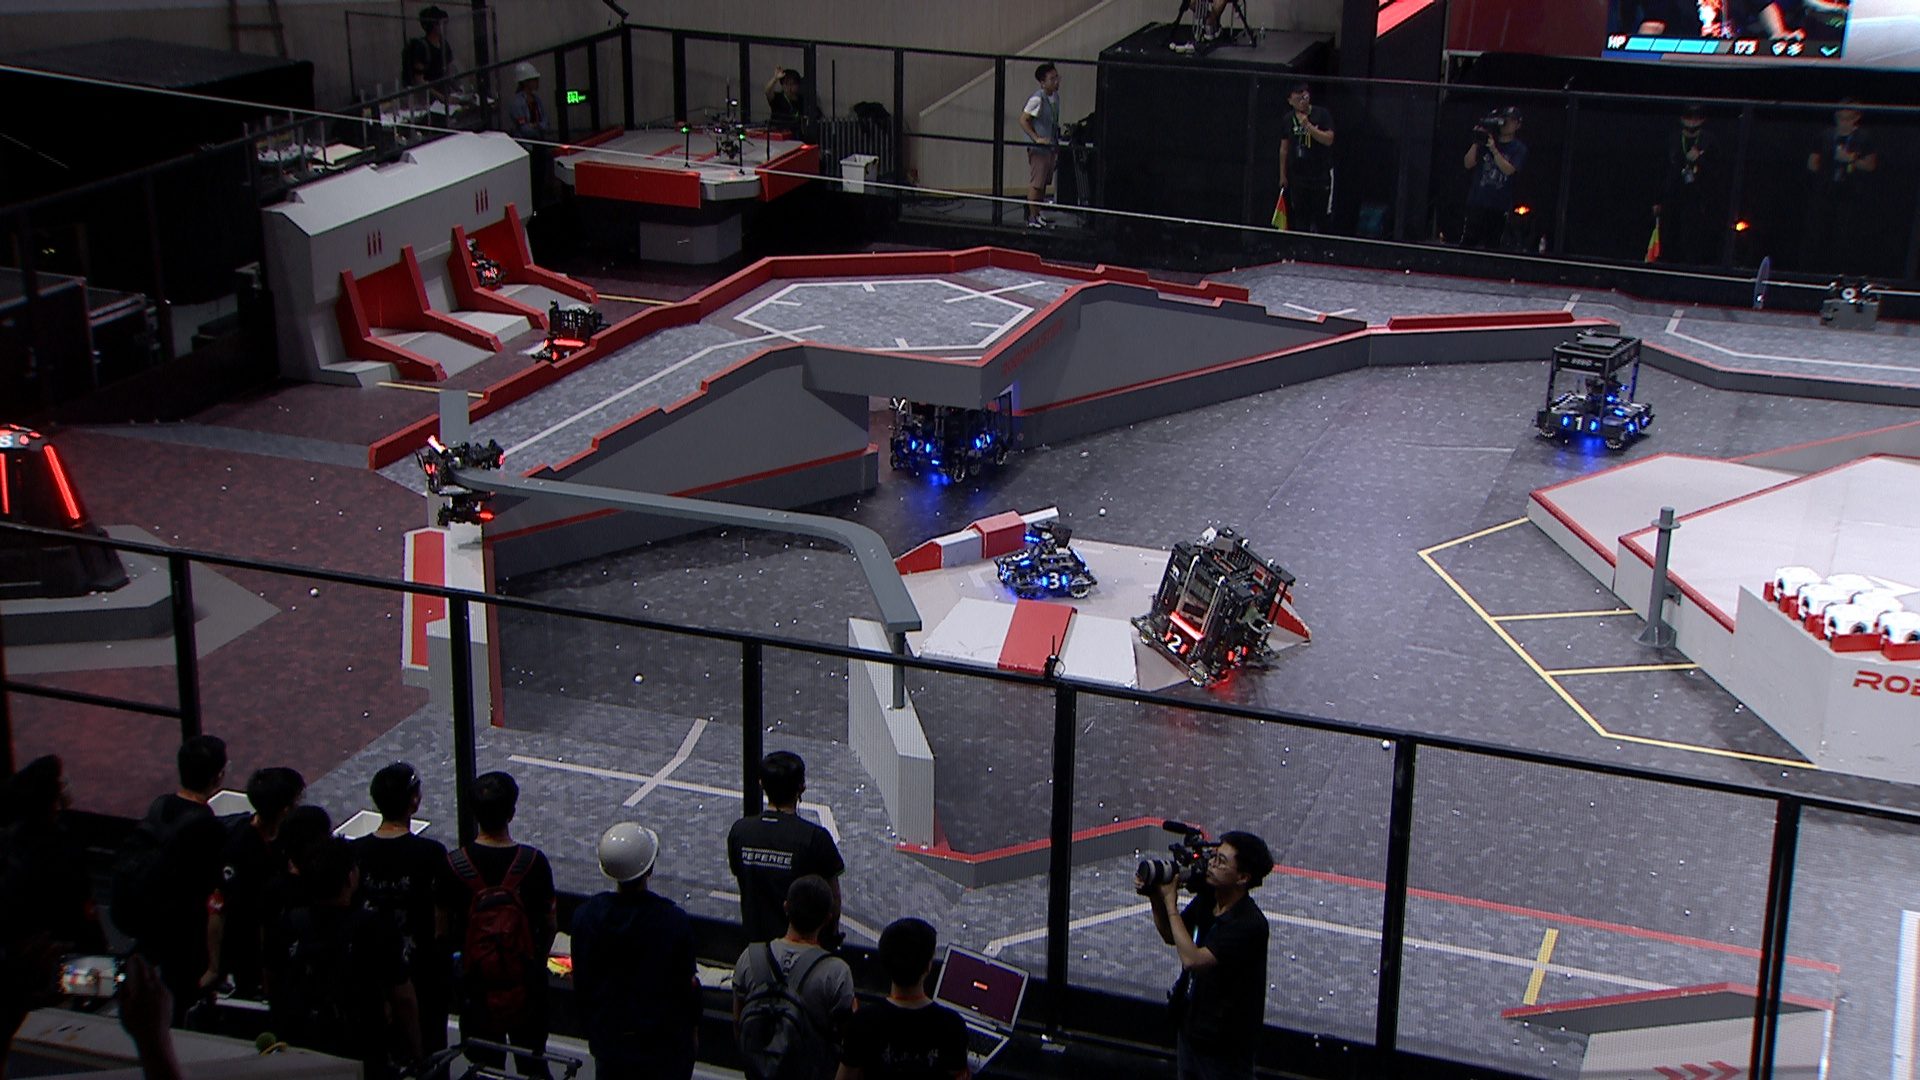armor: (44, 444, 76, 524), (0, 451, 15, 514), (1159, 632, 1187, 655), (1561, 415, 1596, 433), (1040, 571, 1068, 588), (411, 452, 433, 475), (0, 431, 26, 447), (910, 438, 932, 456), (1629, 414, 1646, 436), (973, 433, 992, 452), (1611, 400, 1634, 415), (1011, 549, 1029, 568), (1226, 645, 1247, 661), (553, 351, 571, 363), (997, 564, 1011, 578), (485, 266, 498, 280), (475, 253, 487, 268)
car: (1127, 520, 1296, 687), (880, 357, 1021, 483), (1531, 327, 1658, 460), (992, 517, 1097, 600), (527, 299, 615, 380), (455, 225, 514, 295)
watcher: (409, 429, 501, 527)
